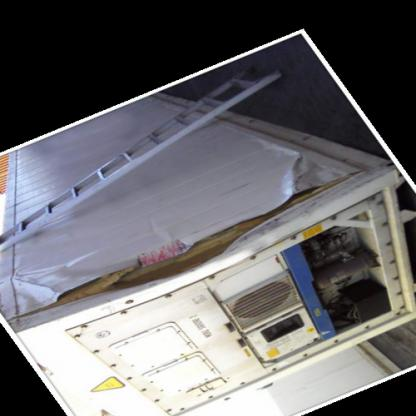Damage: (20, 174, 335, 340)
